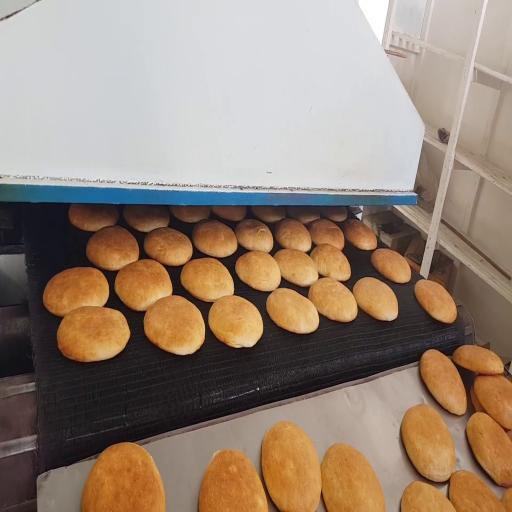bread: (82, 443, 165, 511), (262, 422, 321, 511), (322, 444, 385, 511), (401, 404, 455, 482), (199, 450, 268, 511), (57, 307, 130, 362), (144, 296, 205, 355), (43, 267, 109, 316), (467, 413, 511, 486), (420, 349, 466, 415), (115, 259, 172, 311), (208, 295, 263, 347), (86, 226, 139, 270), (266, 289, 319, 333), (181, 258, 234, 301), (449, 470, 504, 511), (308, 278, 357, 322), (474, 375, 511, 429), (353, 277, 398, 320), (235, 251, 281, 291), (144, 228, 192, 266), (415, 280, 457, 323), (192, 220, 237, 257), (274, 249, 318, 286), (401, 482, 455, 511), (311, 244, 351, 281), (68, 203, 119, 232), (453, 346, 503, 374), (371, 249, 411, 283), (235, 219, 273, 252), (123, 205, 169, 232), (275, 219, 311, 252), (308, 219, 344, 250), (343, 220, 377, 250), (169, 206, 210, 223), (251, 206, 285, 223), (286, 207, 319, 223), (212, 206, 246, 221), (320, 206, 347, 222), (470, 385, 485, 412), (502, 489, 511, 511)
